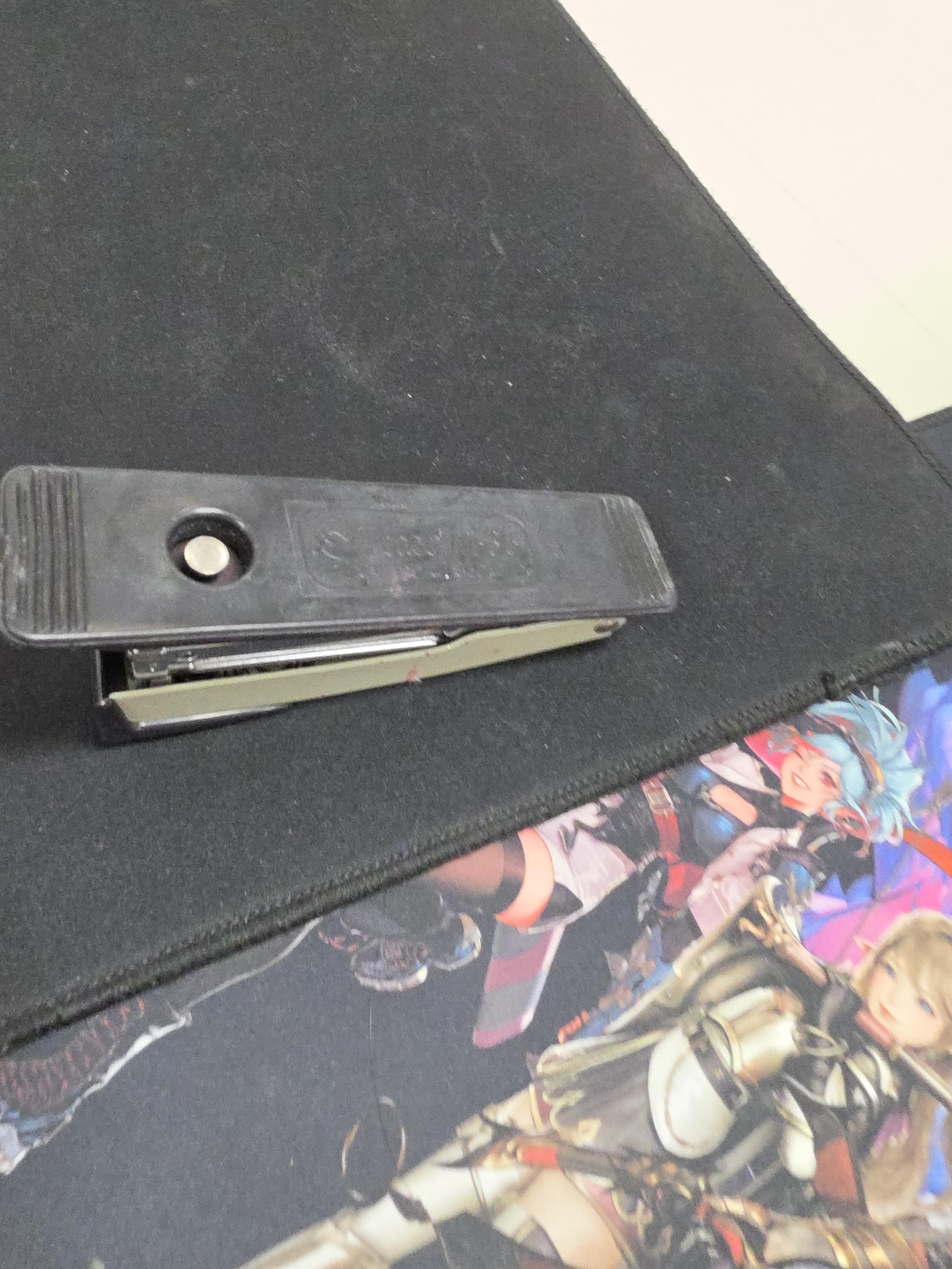stapler: (0, 463, 679, 746)
